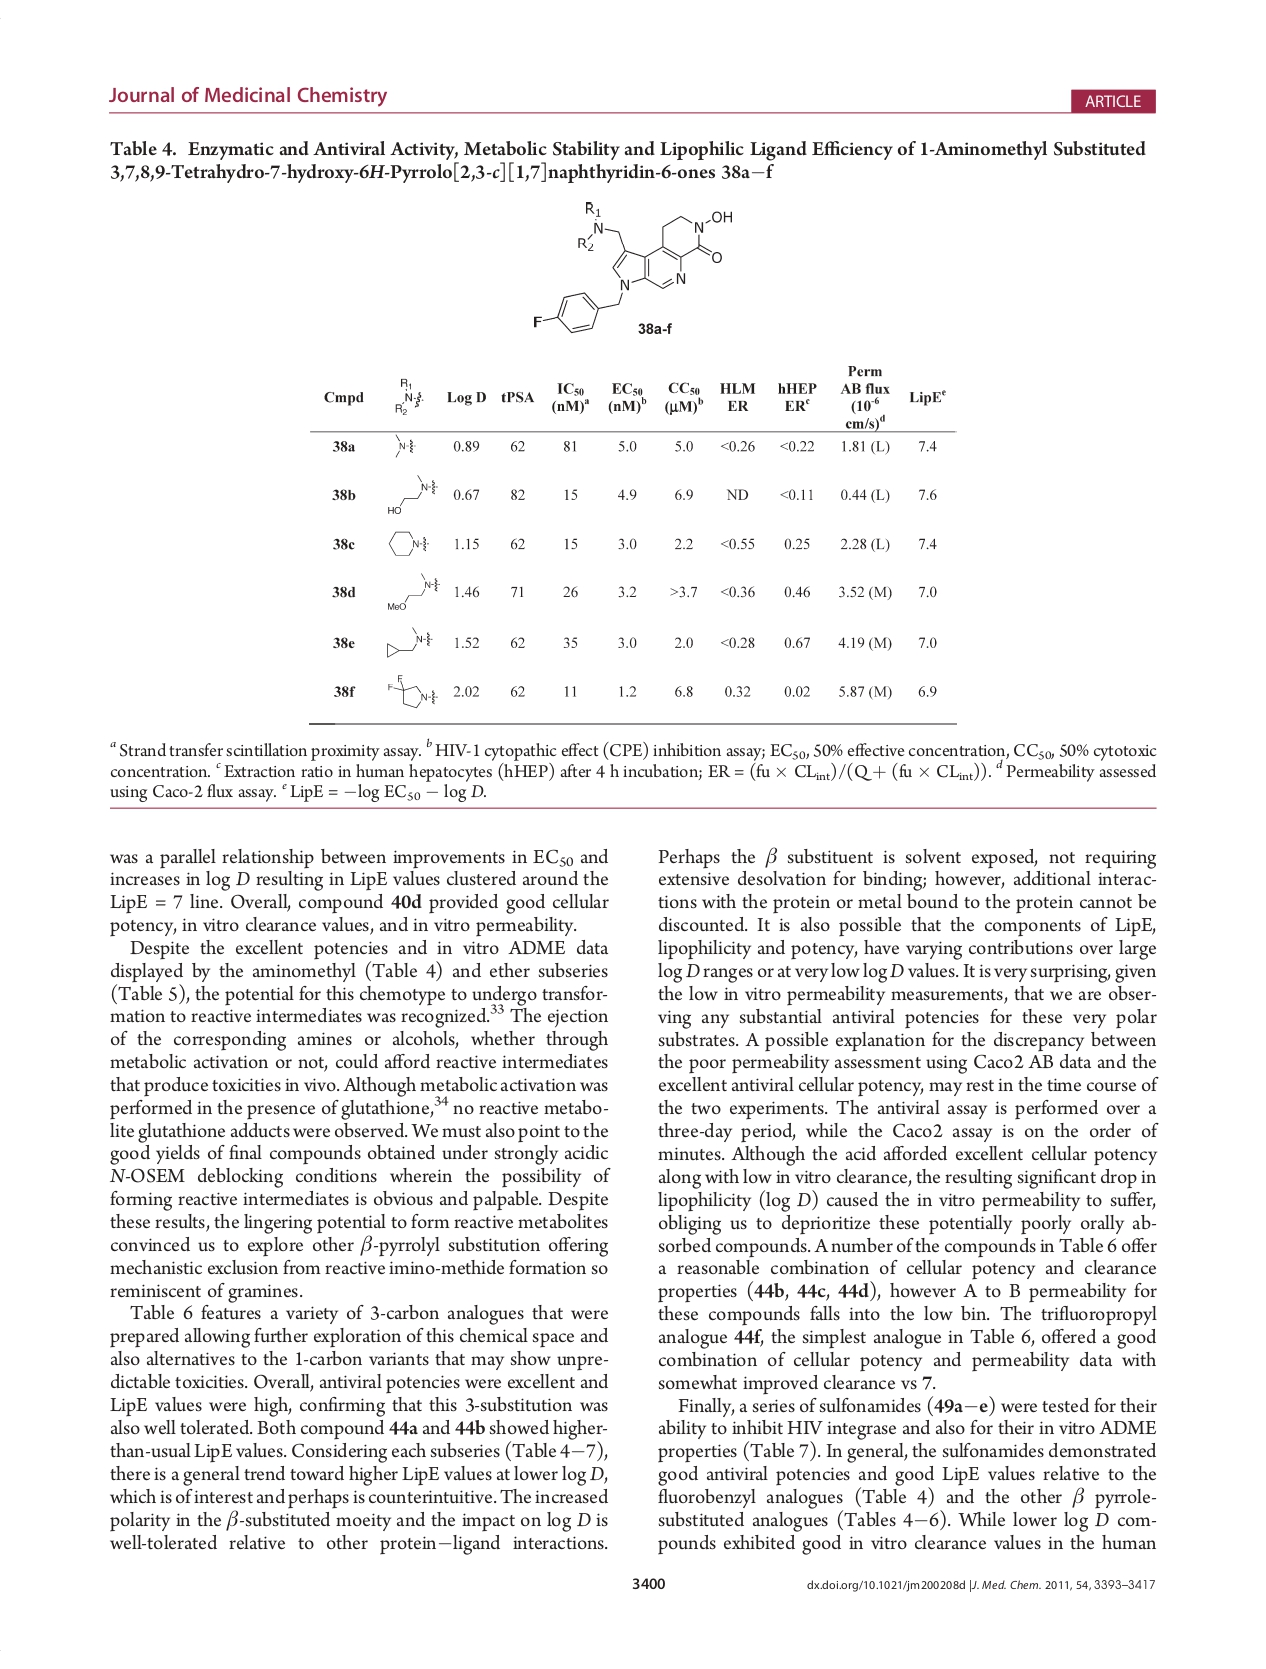exist_molecular: (532, 198, 735, 338), (382, 469, 442, 519), (384, 571, 442, 614), (384, 670, 439, 711), (384, 622, 439, 662), (384, 527, 434, 559), (390, 432, 422, 457)
